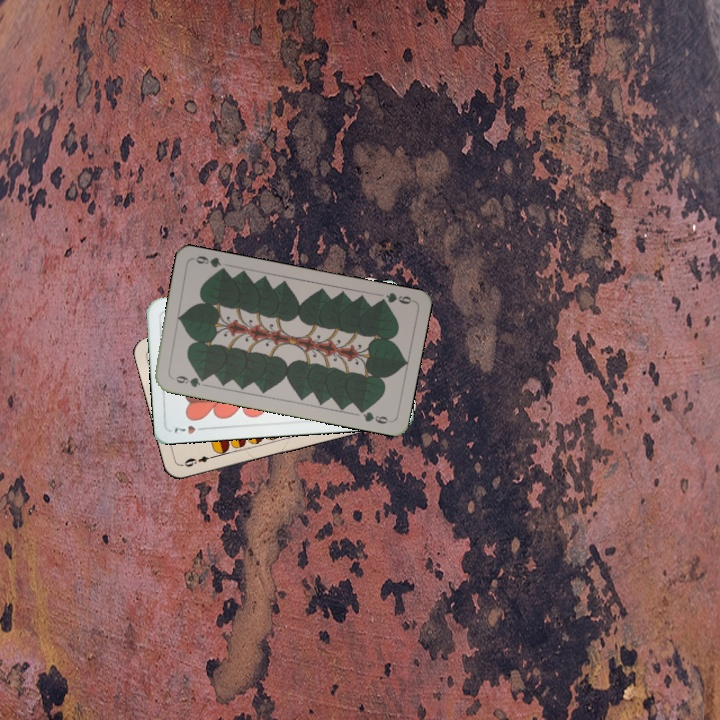E9: (178, 451, 218, 469)
G9: (374, 288, 416, 307), (167, 371, 208, 390)
H7: (171, 422, 209, 436)
